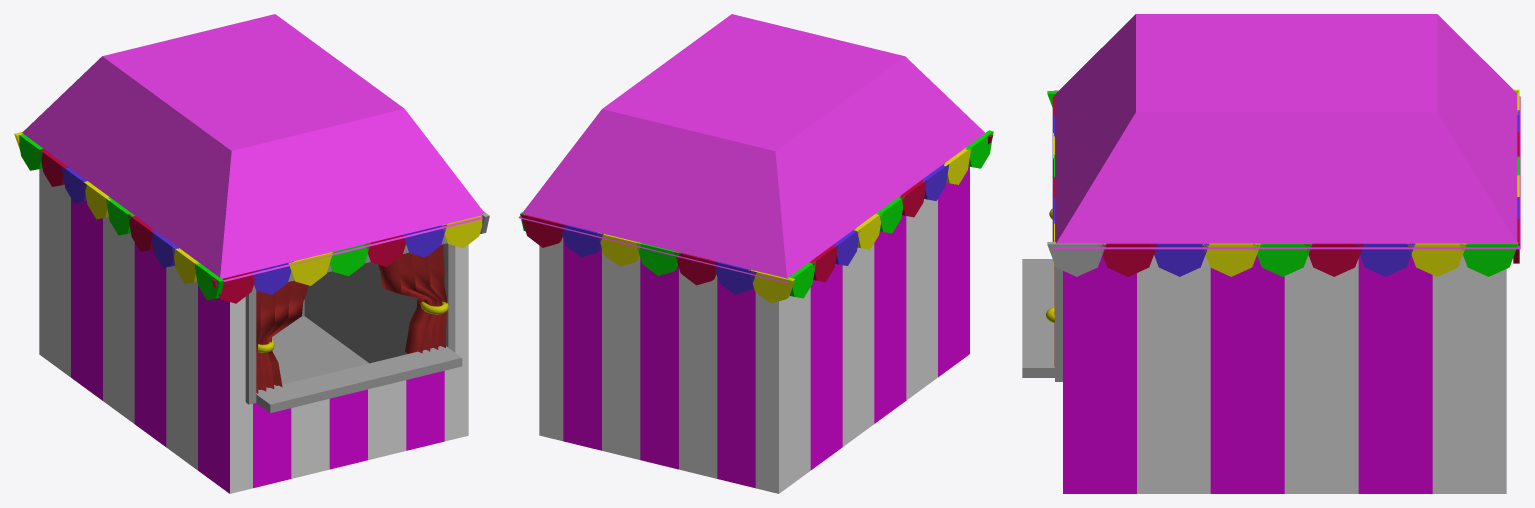
The model's file is TeatroRosa4.fbx.
3 renders of one model, left to right at view 1: azimuth 30°, elevation 25°; view 2: azimuth 150°, elevation 25°; view 3: azimuth 270°, elevation 25°, orthographic. The views are drawn at different scales.
Parts seen in each view (by area): view 1: Techo1, Escenario, Fondo, R_Curtain, L_Curtain, pCylinder30, pCylinder31, pCylinder33, pCylinder29, pCylinder32, pCylinder34, pCylinder28 (+9 smaller); view 2: Escenario, Techo1, pCylinder27, pCylinder21, pCylinder24, pCylinder25, pCylinder26, pCylinder23, pCylinder22, pCylinder16, pCylinder14, pCylinder18 (+6 smaller); view 3: Escenario, Techo1, pCylinder1, pCylinder9, pCylinder4, pCylinder2, pCylinder6, pCylinder8, pCylinder5, pCylinder7, pCylinder3.
Boxes of the visible parts, x1,y1,x2,y2 form: Techo1: (22,14,484,281); Escenario: (39,168,468,493); Fondo: (258,244,444,390); R_Curtain: (378,243,446,353); L_Curtain: (256,281,308,393); pCylinder30: (288,252,332,285); pCylinder31: (403,224,446,257); pCylinder33: (326,242,370,276); pCylinder29: (250,261,293,294); pCylinder32: (441,215,482,248); pCylinder34: (365,235,406,266); pCylinder28: (211,270,257,303); Escenario: (539,166,969,493); Techo1: (518,14,985,283); pCylinder27: (749,270,795,303); pCylinder21: (520,214,565,247); pCylinder24: (636,242,680,275); pCylinder25: (674,252,718,285); pCylinder26: (713,261,756,294); pCylinder23: (597,232,641,266); pCylinder22: (559,223,603,257); pCylinder16: (809,244,838,282); pCylinder14: (876,195,904,233); pCylinder18: (899,180,926,217); Escenario: (1022,255,1506,493); Techo1: (1052,14,1520,249); pCylinder1: (1047,242,1106,276); pCylinder9: (1459,242,1518,276); pCylinder4: (1202,243,1260,276); pCylinder2: (1099,243,1157,276); pCylinder6: (1305,243,1363,276); pCylinder8: (1407,243,1466,276); pCylinder5: (1253,243,1312,276); pCylinder7: (1356,243,1415,276); pCylinder3: (1151,243,1209,276).
Bounding box in the file's own units: 15.98 × 17.42 × 21.66.
